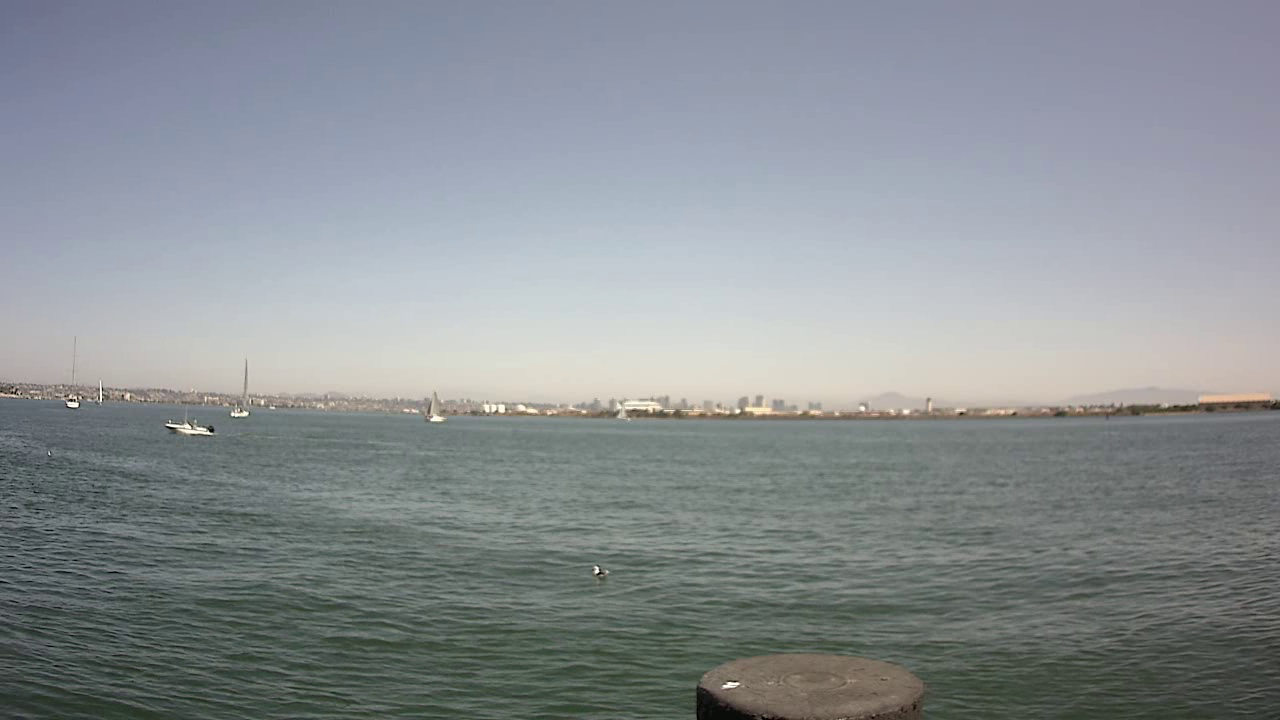target: (162, 410, 220, 439)
